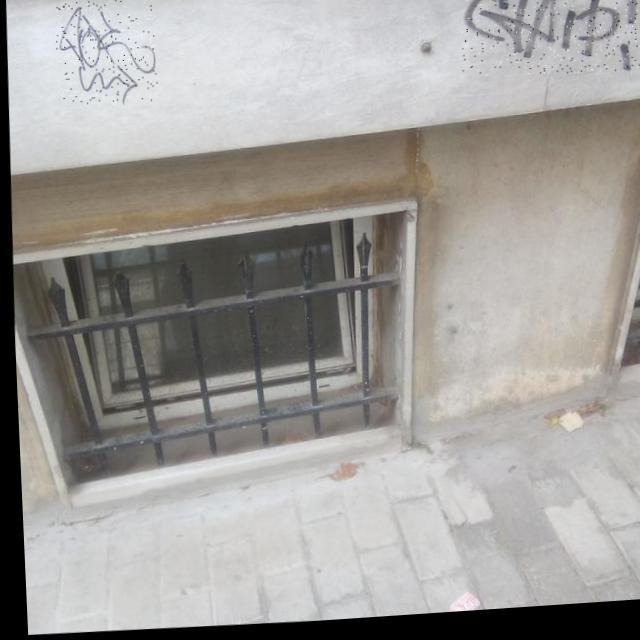-: (458, 0, 640, 88), (53, 0, 158, 107)
